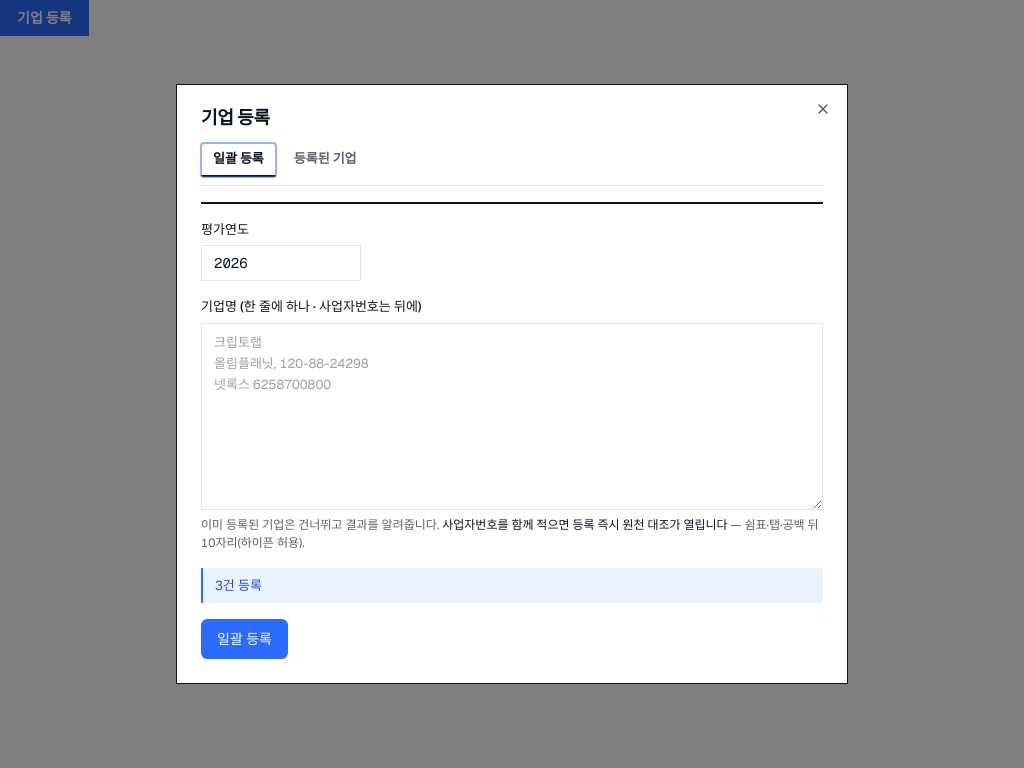
Scenario: RegisterDialog › shows an exclude button for an active company on the manage tab
Click the tab "등록된 기업". click: (325, 160)
box: [282,143,369,176]
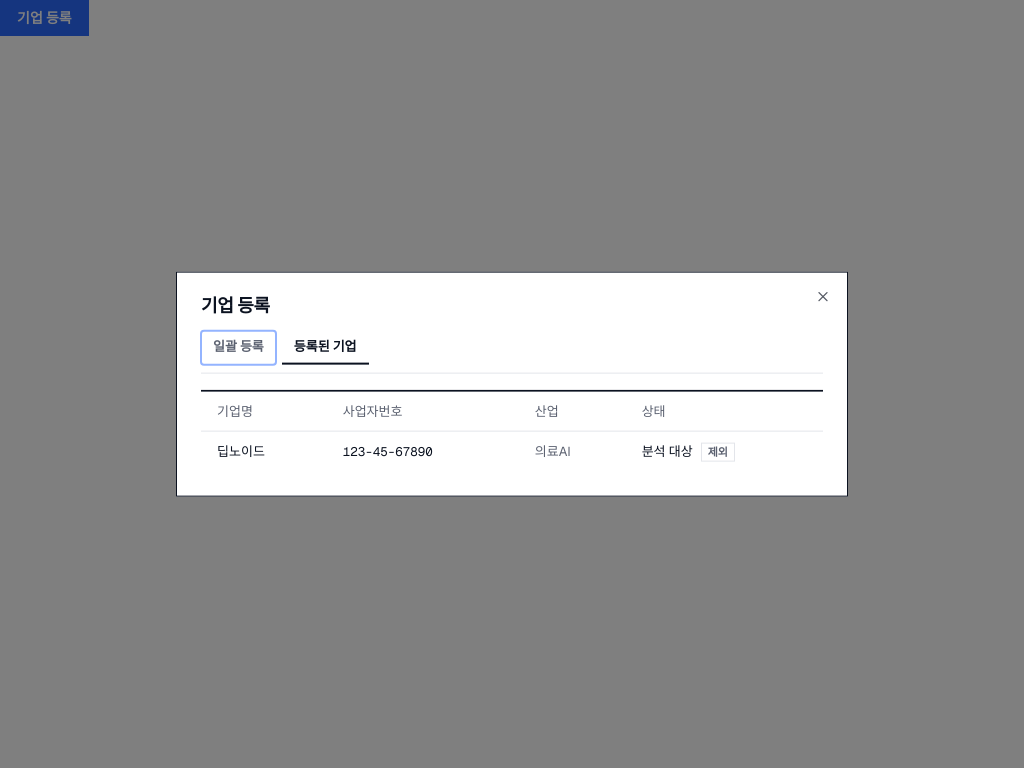
Expected: the button with aria-label "딥노이드 제외" is shown, [701,443,735,461]
